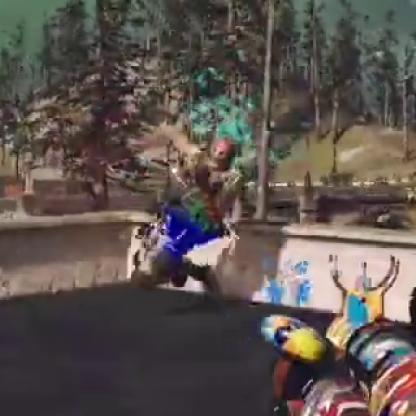enemy: (140, 126, 254, 295)
